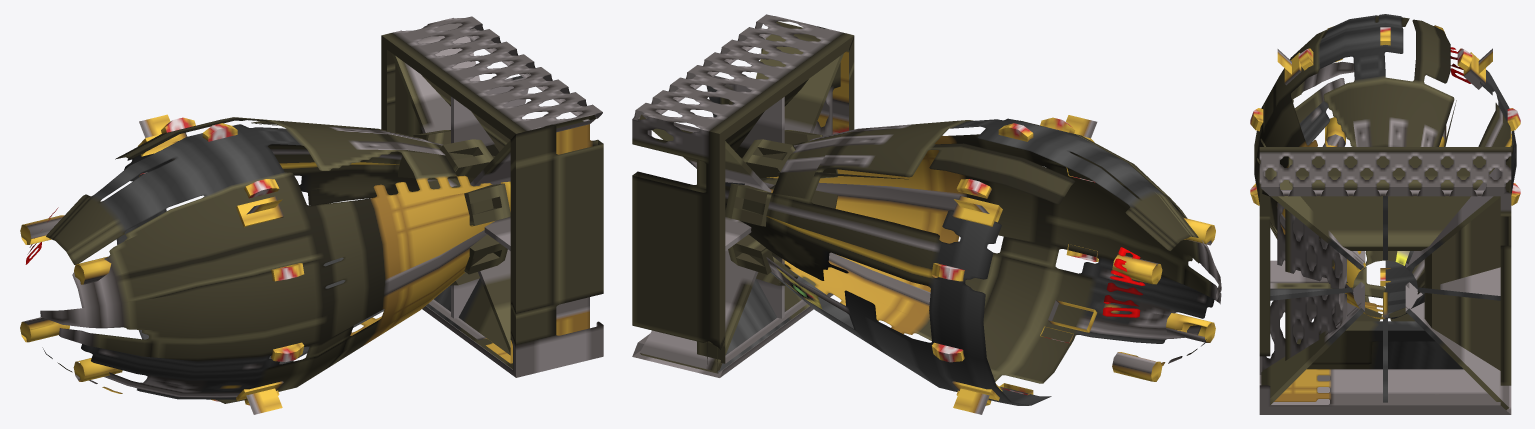
File: nuke_man.obj
3 views of the same model, side by side, from view 1: azimuth 30°, elevation 25°; view 2: azimuth 150°, elevation 25°; view 3: azimuth 270°, elevation 25° (orthographic). The views are drawn at different scales.
Visible parts, largest first — view 1: fatman_Cylinder; view 2: fatman_Cylinder; view 3: fatman_Cylinder.
Part boxes in pixels (x1,y1,x2,y2): fatman_Cylinder: (20, 16, 603, 414); fatman_Cylinder: (632, 14, 1221, 414); fatman_Cylinder: (1250, 14, 1520, 414).
Bounding box in the file's own units: 3.25 × 1.67 × 1.61.
